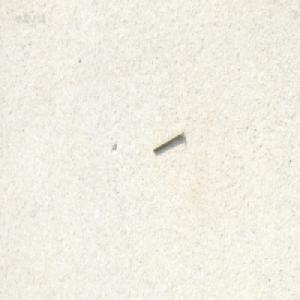Bolt: (152, 127, 183, 152)
